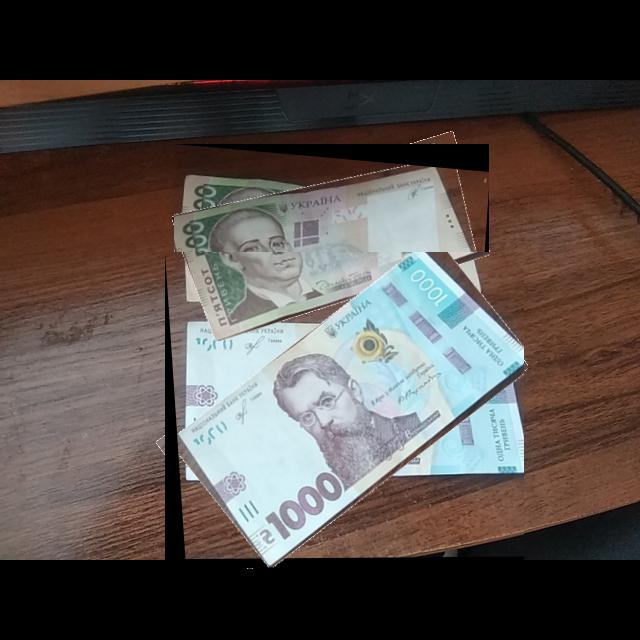1000uah: (175, 252, 525, 569)
500uah: (174, 162, 484, 343)
